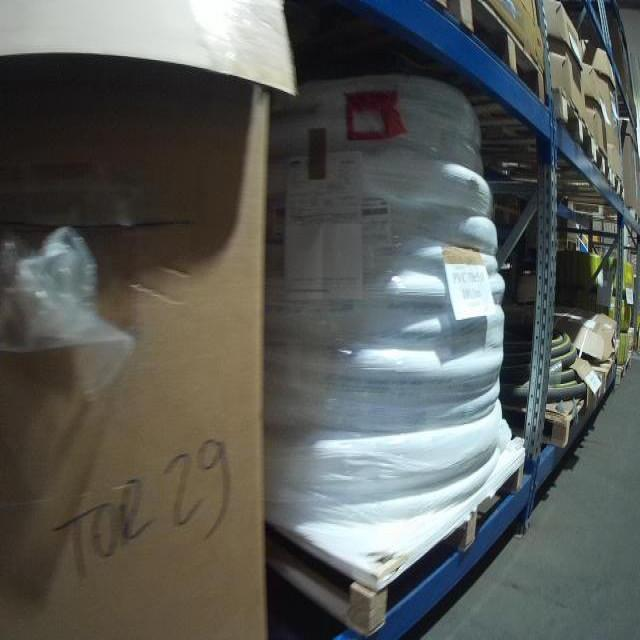pallet: (265, 413, 529, 635), (409, 4, 549, 102), (506, 358, 607, 461), (546, 84, 598, 161), (612, 350, 634, 395), (596, 143, 610, 179), (610, 167, 624, 200), (626, 204, 639, 233)
